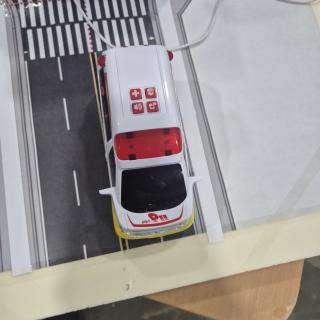Ambulance: (97, 45, 202, 239)
